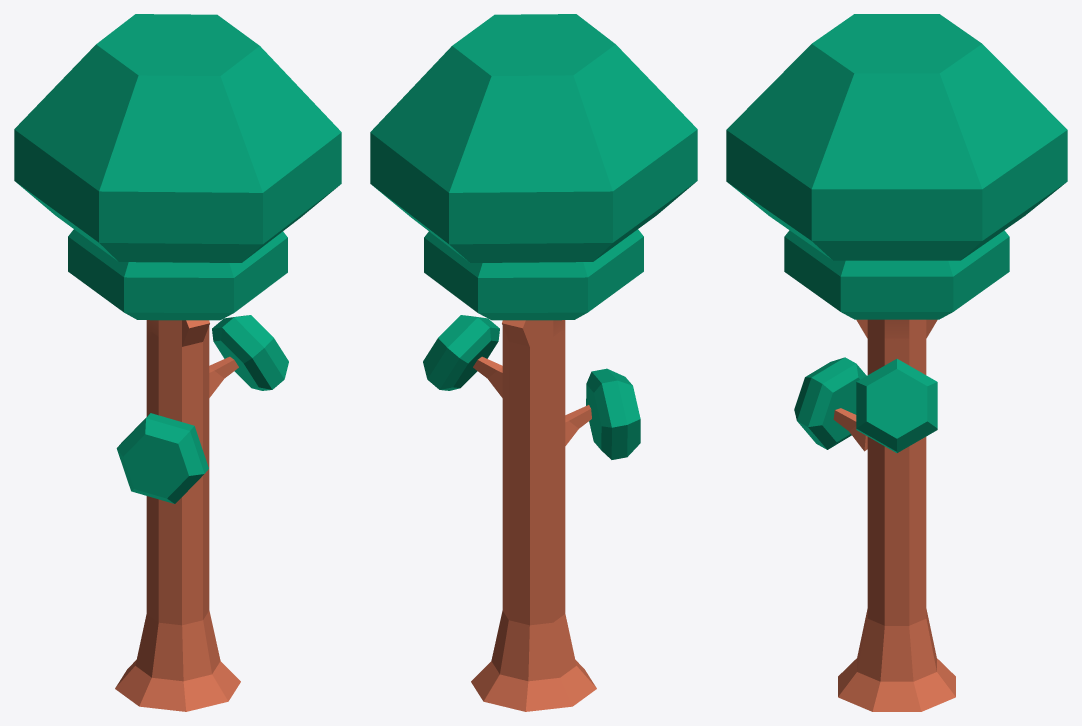
File: LaumbaumGross2.fbx
3 views of the same model, side by side, from view 1: azimuth 30°, elevation 25°; view 2: azimuth 150°, elevation 25°; view 3: azimuth 270°, elevation 25° (orthographic).
Visible parts, largest first — view 1: mergedBlocks; view 2: mergedBlocks; view 3: mergedBlocks.
Boxes of the visible parts, <box> form: mergedBlocks: <box>14,14,341,711</box>; mergedBlocks: <box>370,14,697,711</box>; mergedBlocks: <box>726,14,1067,711</box>.
Size of the model in its own units: 173 by 437 by 210.
